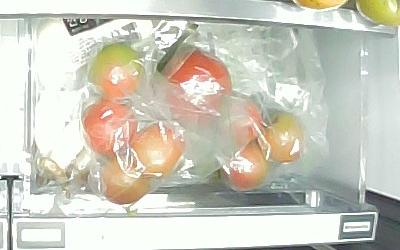tomato_vinyl: (159, 52, 232, 128), (86, 42, 148, 101), (81, 103, 138, 157), (257, 107, 307, 165), (131, 124, 185, 177), (99, 156, 153, 204), (220, 140, 270, 190), (218, 101, 264, 146)
